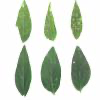Soyabean leaf: (40, 46, 61, 95), (71, 45, 91, 93), (14, 44, 32, 97)
